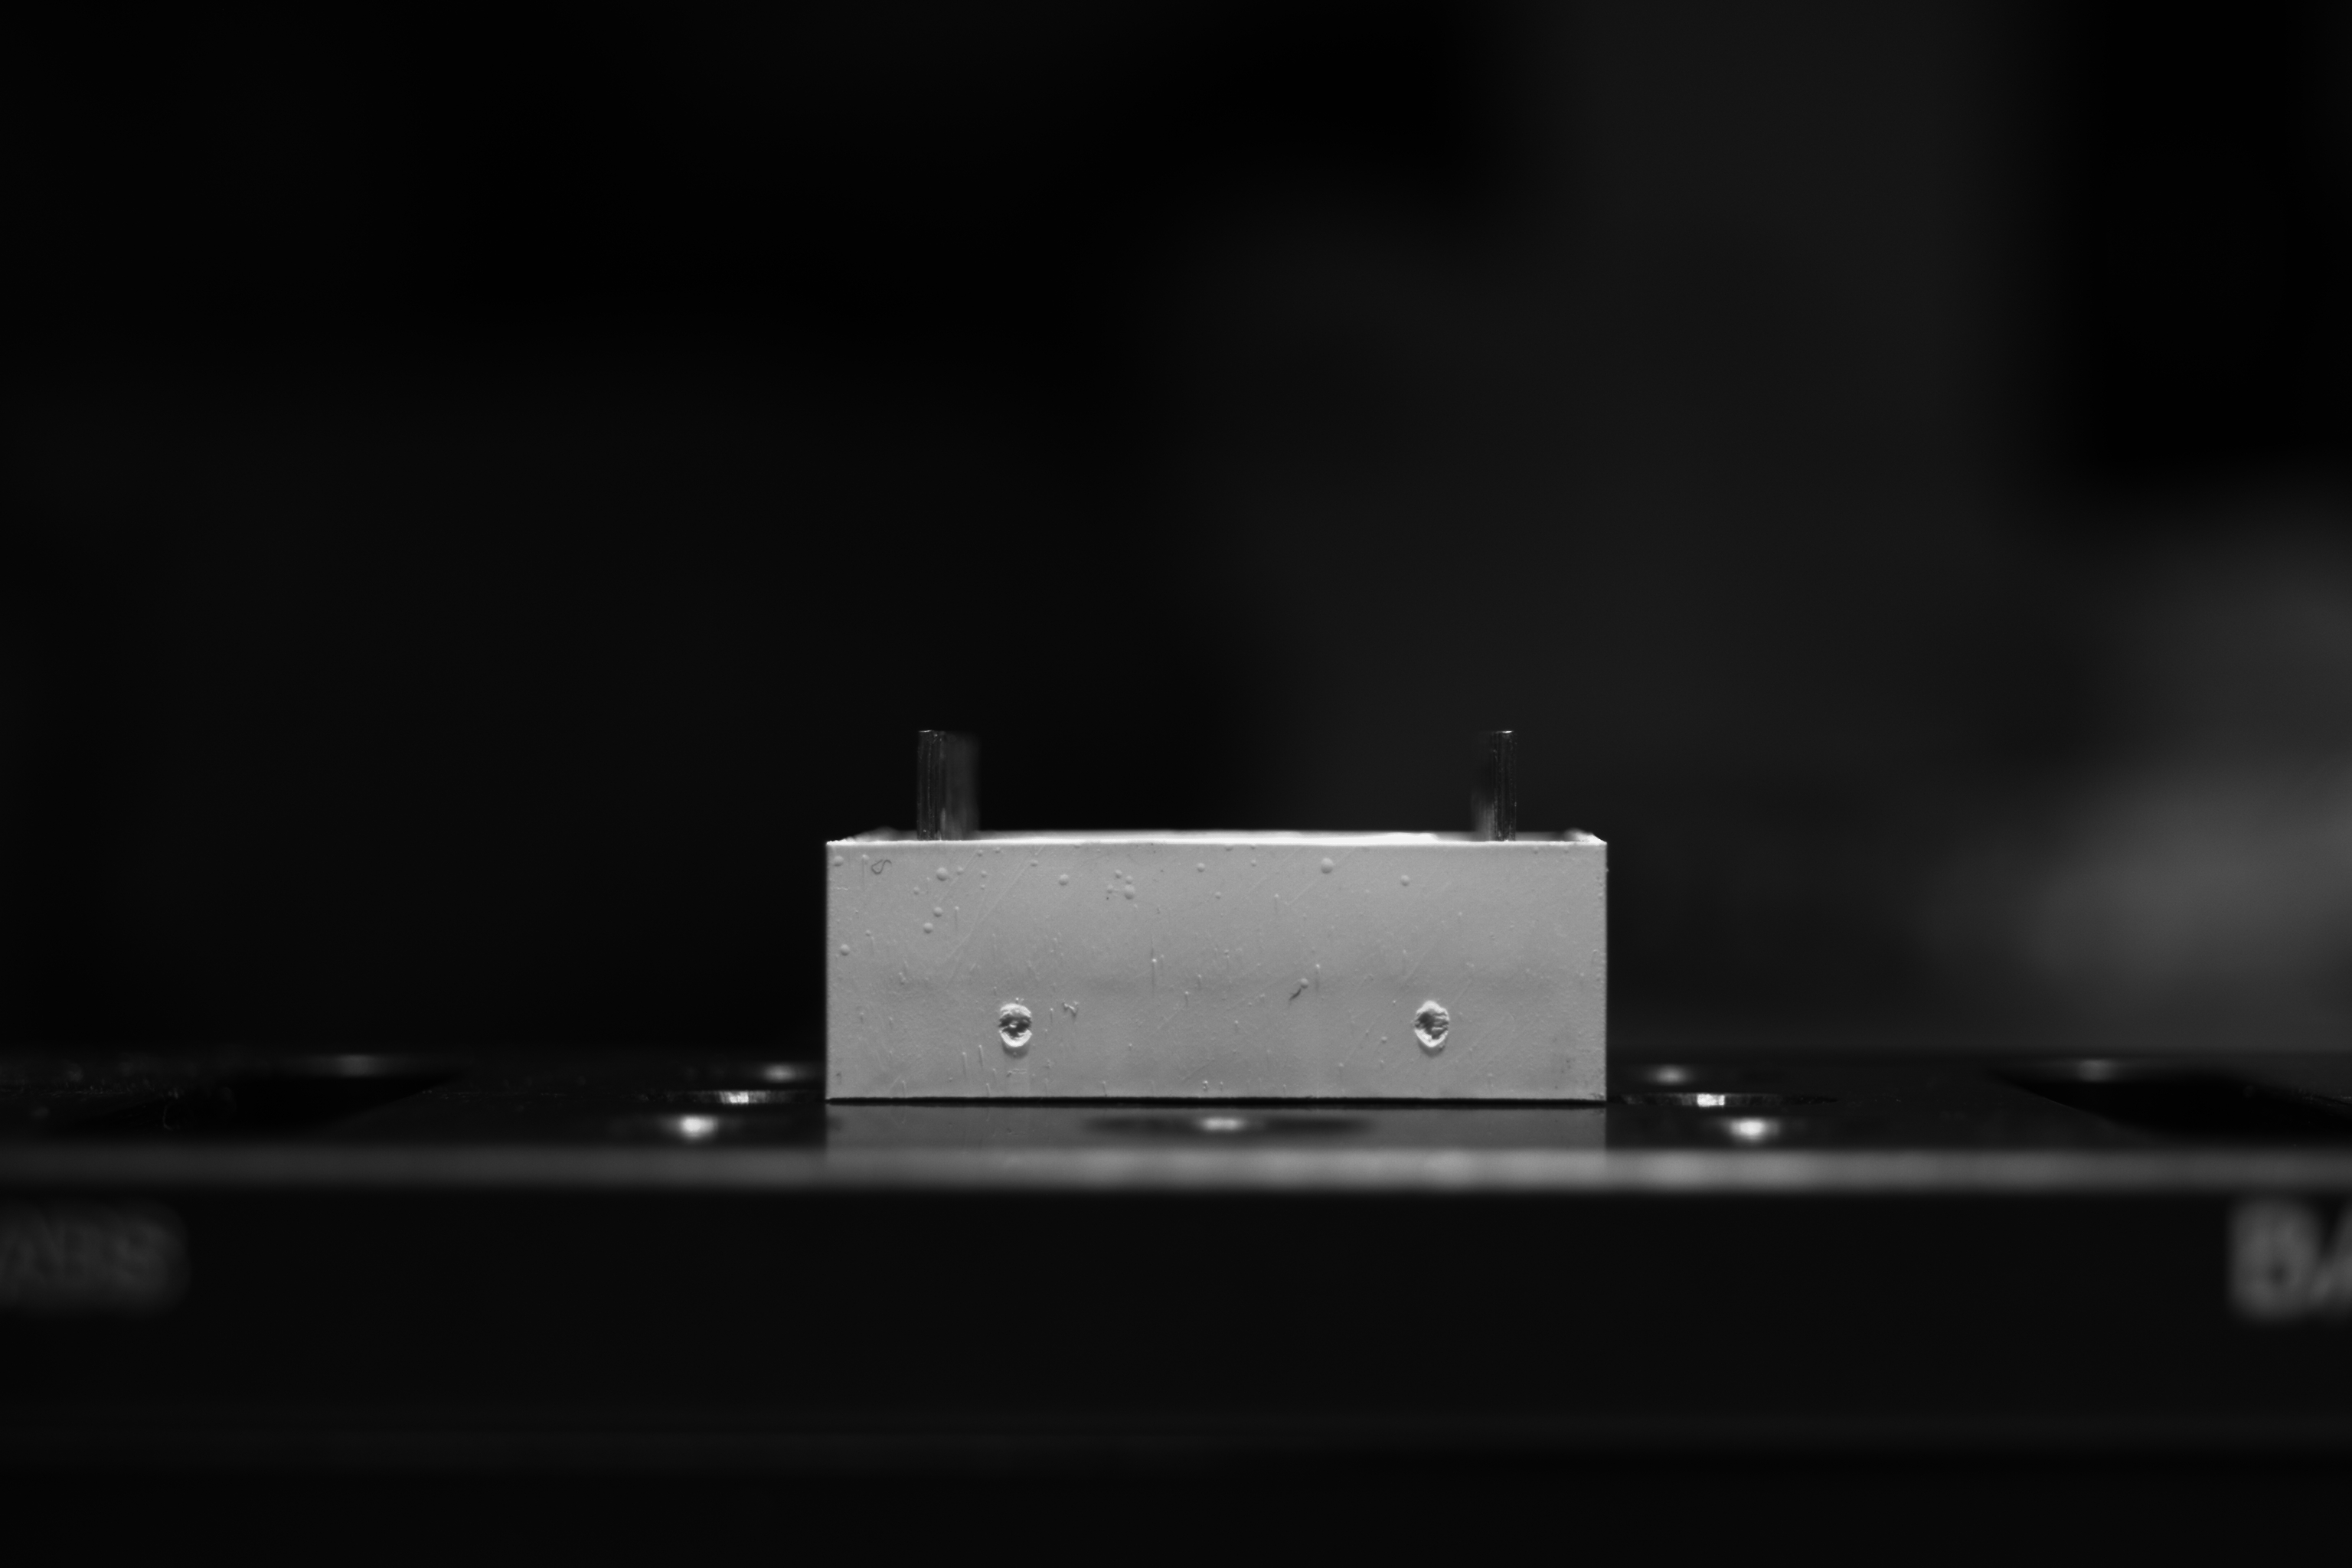glue: (919, 903, 962, 934), (1102, 866, 1139, 903), (1223, 845, 1262, 866), (1312, 852, 1339, 877), (933, 866, 966, 882), (835, 938, 852, 961), (973, 845, 1004, 857), (1395, 873, 1414, 889), (829, 850, 845, 870), (978, 870, 990, 892), (1295, 973, 1311, 989), (1055, 871, 1071, 887), (1027, 854, 1041, 870), (859, 850, 871, 866), (1193, 859, 1206, 873), (1211, 887, 1223, 901), (910, 884, 924, 896), (1379, 1034, 1389, 1045), (1529, 845, 1540, 854), (1561, 845, 1571, 854), (864, 927, 873, 938)
injection_hole: (997, 1001, 1036, 1055), (1414, 997, 1451, 1053)
